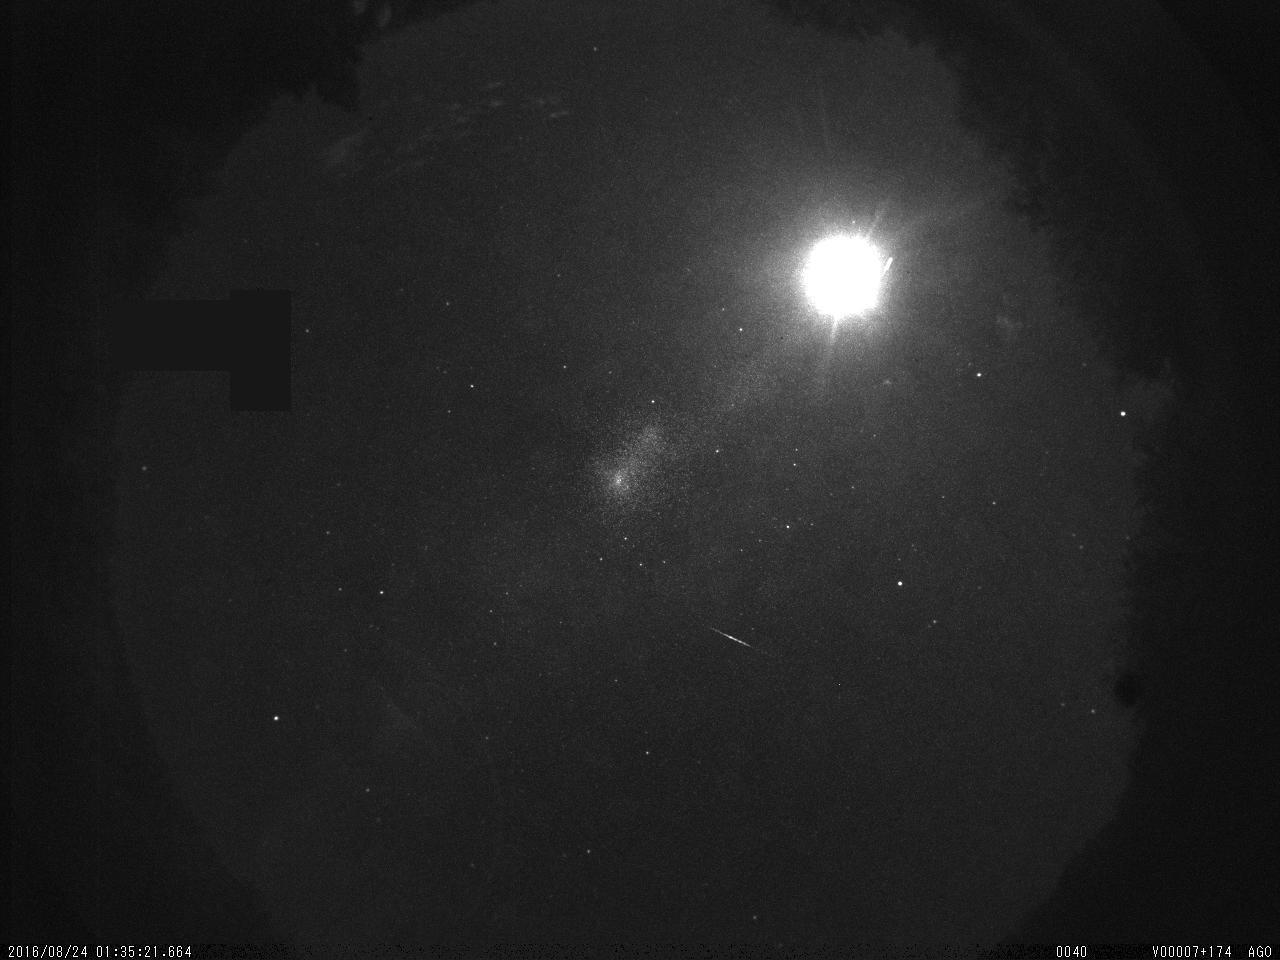meteor: (695, 608, 762, 665)
